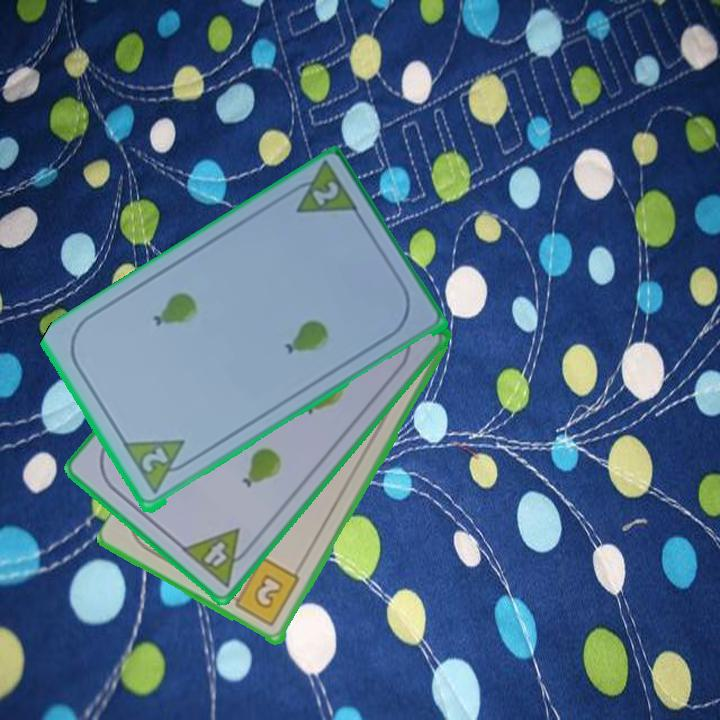2b: (224, 554, 303, 630)
2p: (281, 160, 362, 218), (137, 444, 171, 476)
4p: (178, 525, 259, 590)
